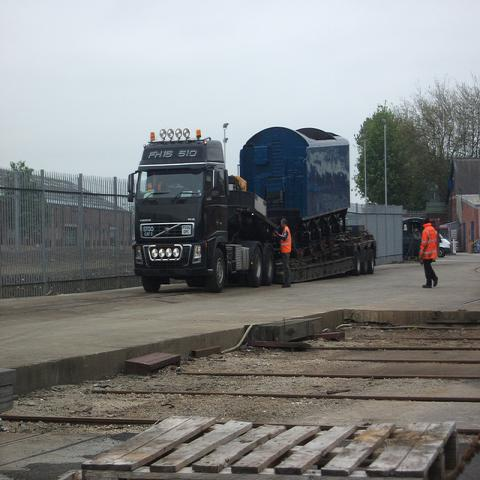car: (403, 218, 425, 235), (438, 232, 451, 257)
truck: (124, 125, 376, 290)
